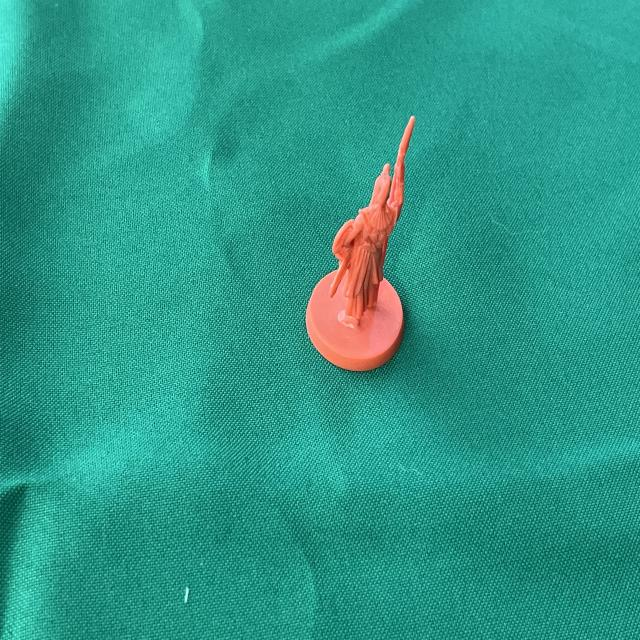amon_follower: (306, 117, 415, 370)
